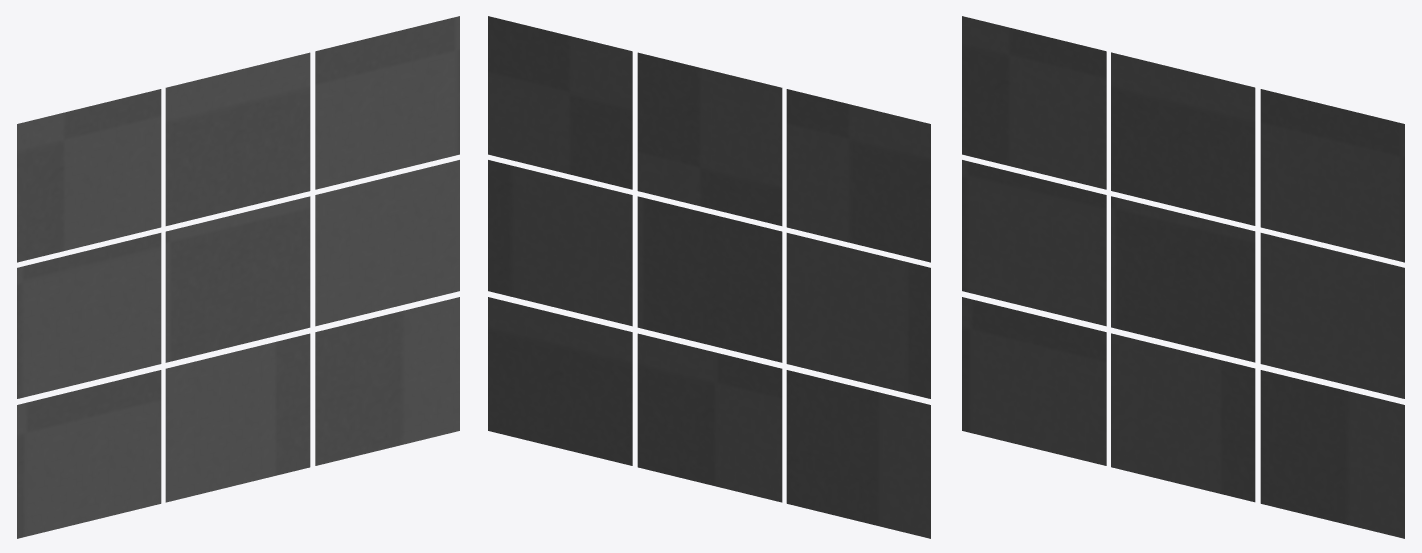
The model's file is SM_BackDoor_A_Glass.glb.
The picture shows the model from 3 angles, left to right: view 1: azimuth 30°, elevation 25°; view 2: azimuth 150°, elevation 25°; view 3: azimuth 330°, elevation 25°; orthographic projection.
Parts seen in each view (by area): view 1: SM_BackDoor_A_Glass; view 2: SM_BackDoor_A_Glass; view 3: SM_BackDoor_A_Glass.
Boxes of the visible parts, bbox=[...] form: SM_BackDoor_A_Glass: bbox=[17, 16, 459, 538]; SM_BackDoor_A_Glass: bbox=[488, 16, 930, 538]; SM_BackDoor_A_Glass: bbox=[962, 16, 1404, 538].
Size of the model in its own units: 92.67 by 82.91 by 1.
1 material, 1 textured.
